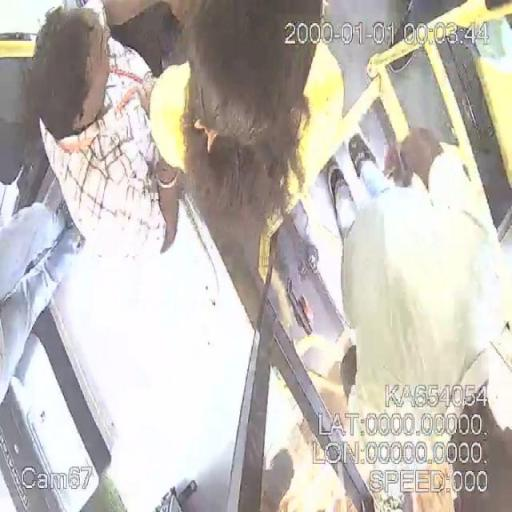persona: (325, 122, 507, 511), (148, 0, 346, 212), (30, 0, 190, 261)
